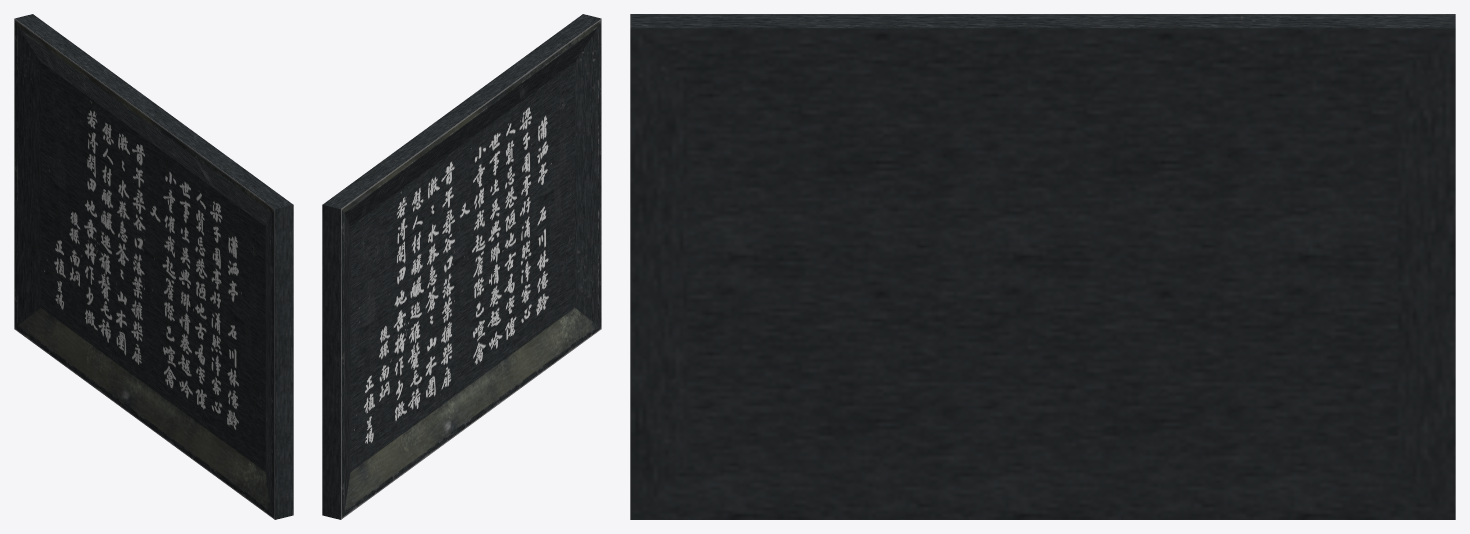
Rendered from SM_JWD_Tablet01e.fbx.
The picture shows the model from 3 angles, left to right: view 1: azimuth 30°, elevation 25°; view 2: azimuth 150°, elevation 25°; view 3: azimuth 270°, elevation 25°; orthographic projection. The views are drawn at different scales.
Parts seen in each view (by area): view 1: SM_JWD_Tablet01e; view 2: SM_JWD_Tablet01e; view 3: SM_JWD_Tablet01e.
Part boxes in pixels (x1,y1,x2,y2): SM_JWD_Tablet01e: (14,14,293,519); SM_JWD_Tablet01e: (322,14,601,519); SM_JWD_Tablet01e: (630,14,1455,519).
Size of the model in its own units: 3 by 73 by 48.
Materials: 1 (1 with a texture image).
